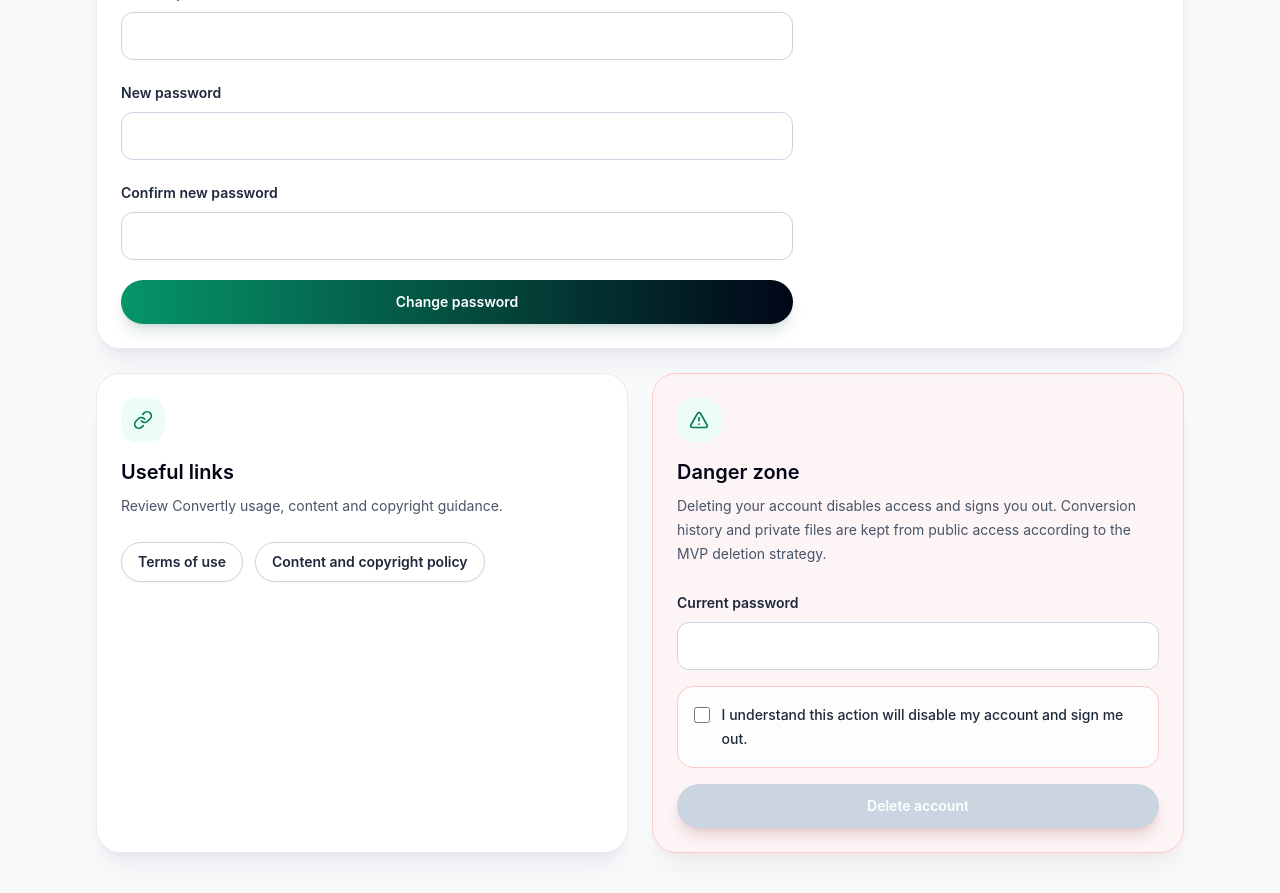
AccountPage › keeps delete account disabled until explicit confirmation
The width and height of the screenshot is (1280, 893).
(page scrolled)
expect the button "Delete account" is disabled: met, box 677,784 -> 1159,828
Click the checkbox labelled "I understand this action will disable my account and sign me out.": (702,715) 694,707 -> 710,723
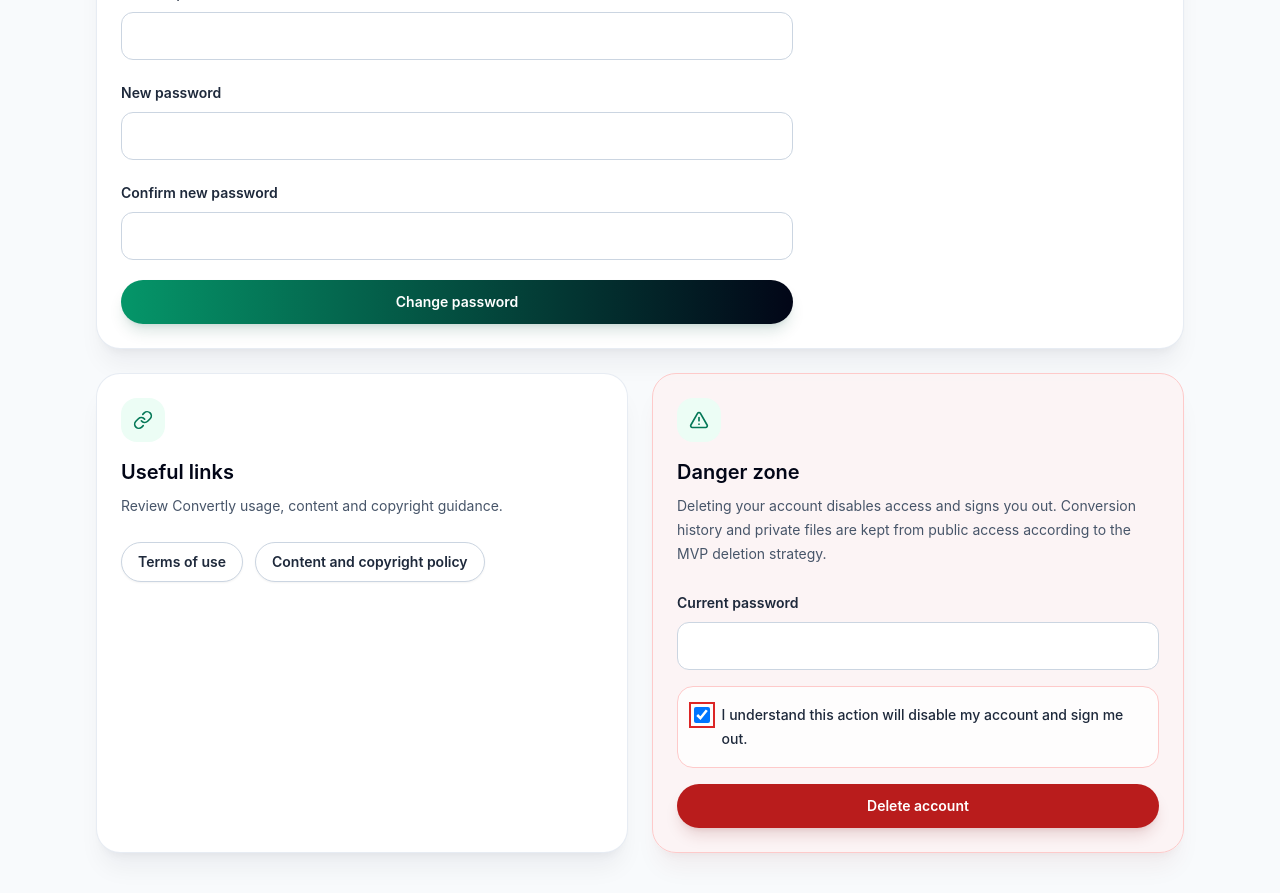
expect the button "Delete account" is enabled: met, box 677,784 -> 1159,828
